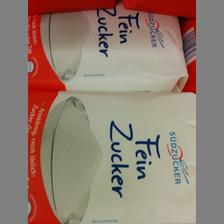Zucker: (27, 88, 195, 224), (26, 9, 186, 91)
